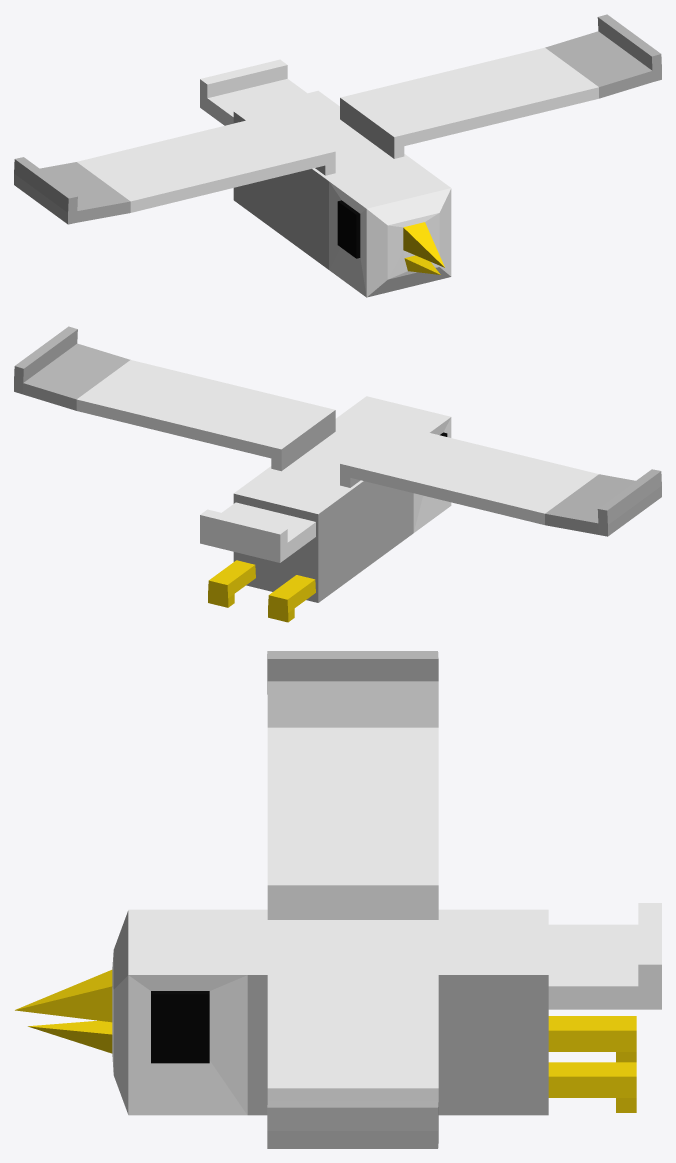
Rendered from bird.obj.
3 renders of one model, top to bottom at view 1: azimuth 30°, elevation 25°; view 2: azimuth 150°, elevation 25°; view 3: azimuth 270°, elevation 25°, orthographic. The views are drawn at different scales.
Parts seen in each view (by area): view 1: Bird; view 2: Bird; view 3: Bird.
Boxes of the visible parts, x1,y1,x2,y2 form: Bird: (14, 14, 661, 297); Bird: (14, 326, 661, 622); Bird: (15, 651, 661, 1148).
Size of the model in its own units: 4.22 by 0.8742 by 2.52.
